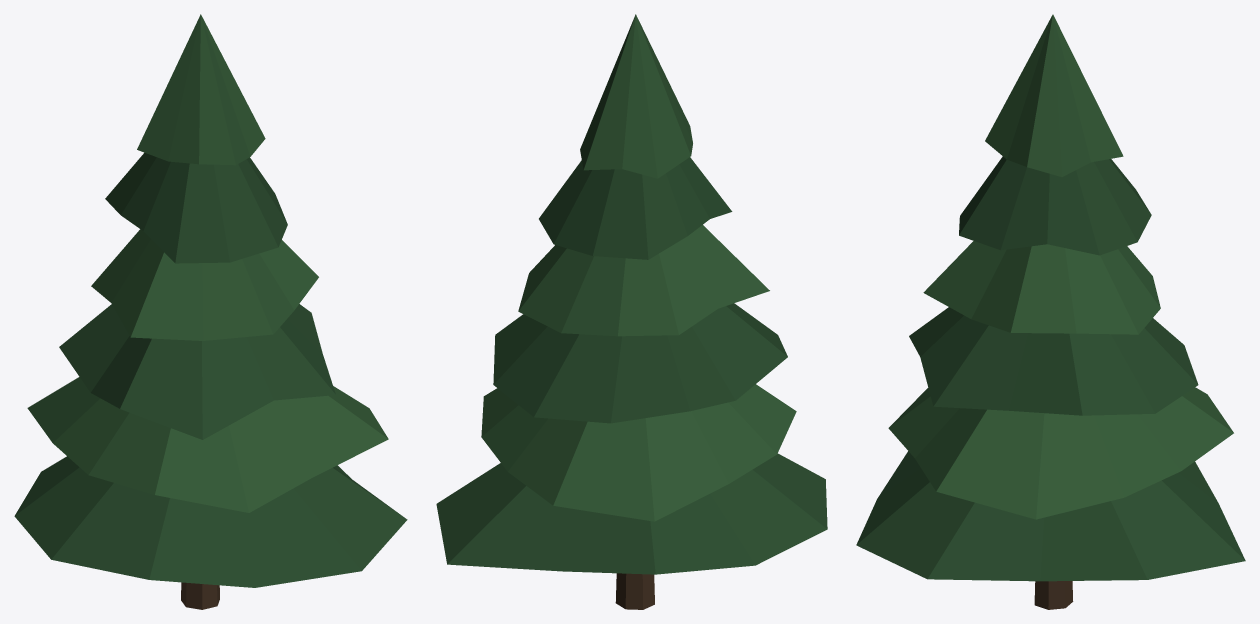
Rendered from pine2.glb.
The picture shows the model from 3 angles, left to right: view 1: azimuth 30°, elevation 25°; view 2: azimuth 150°, elevation 25°; view 3: azimuth 270°, elevation 25°; orthographic projection.
Parts seen in each view (by area): view 1: Tree; view 2: Tree; view 3: Tree.
Part boxes in pixels (x1=…): Tree: x1=14, y1=14, x2=407, y2=609; Tree: x1=436, y1=14, x2=827, y2=609; Tree: x1=856, y1=14, x2=1245, y2=609.
Bounding box in the file's own units: 4.54 × 7.7 × 4.63.
